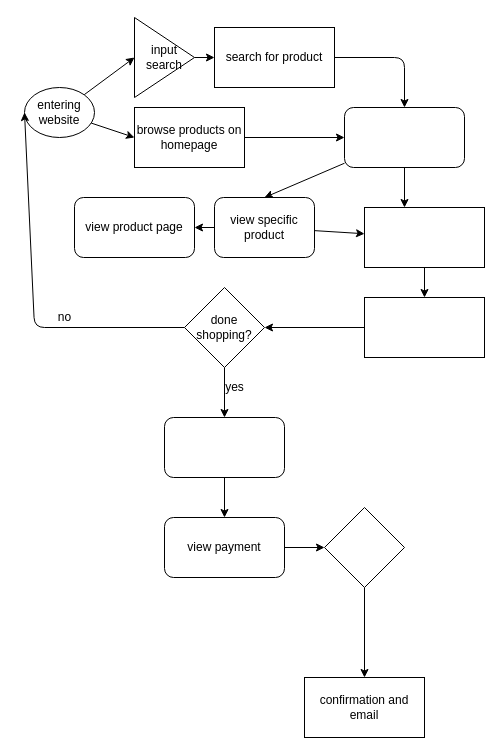
The diagram is 502 pixels wide and 755 high, and some of its shapes have lost their labels. Each missing label, with the centre of its shape:
add to cart: the point at 424,237
confirm add to cart: the point at 424,327
looking over products: the point at 404,137
pay?: the point at 364,547
view cart: the point at 224,447
